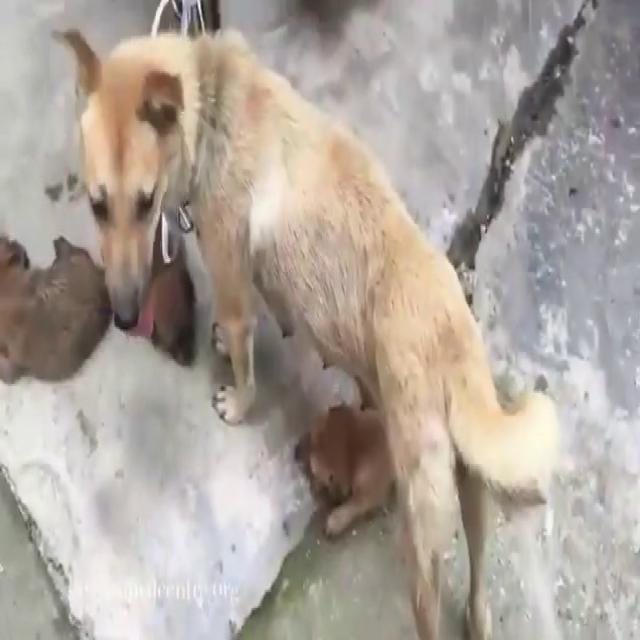normal_animals: (51, 18, 564, 631)
